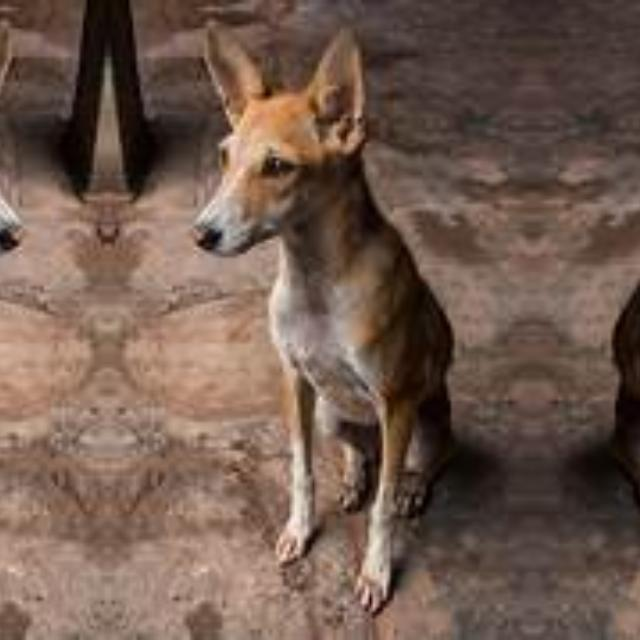dog: (155, 50, 485, 640), (580, 50, 640, 640), (0, 50, 59, 640)
